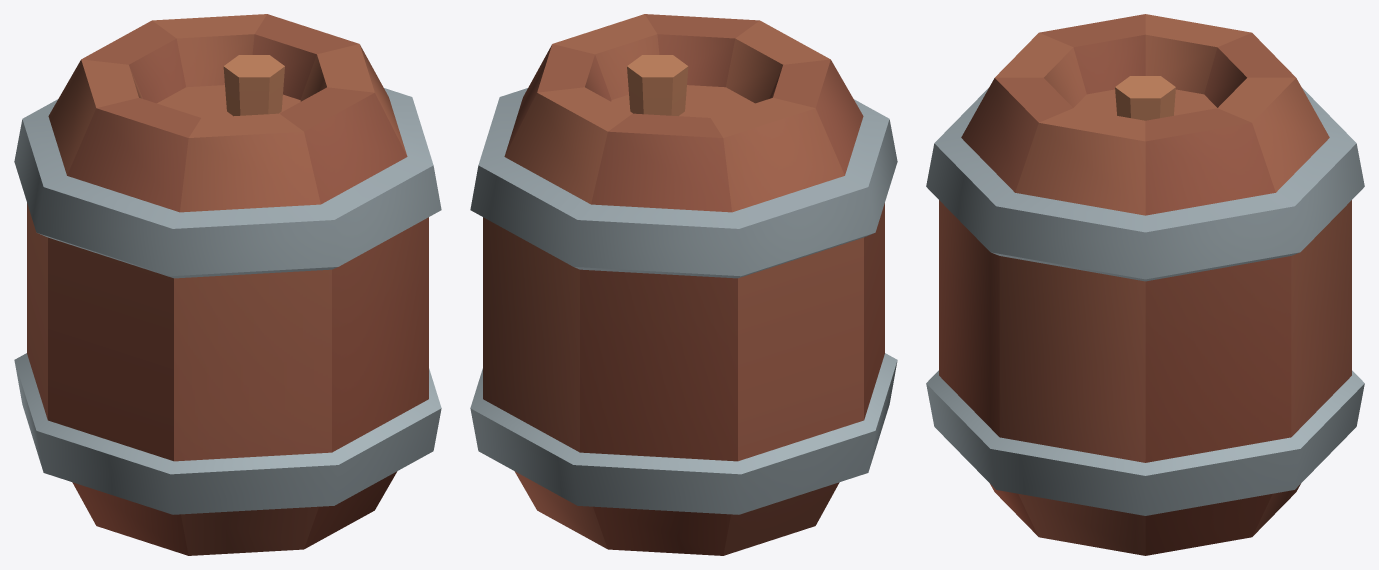
File: village.glb
3 renders of one model, left to right at view 1: azimuth 30°, elevation 25°; view 2: azimuth 150°, elevation 25°; view 3: azimuth 270°, elevation 25°, orthographic.
Parts seen in each view (by area): view 1: barrel; view 2: barrel; view 3: barrel.
Part boxes in pixels (left/top/right/bottom): barrel: left=14, top=14, right=441, bottom=555; barrel: left=470, top=14, right=897, bottom=555; barrel: left=926, top=14, right=1364, bottom=555.
Size of the model in its own units: 0.2015 by 0.2117 by 0.2015.
1 material, 1 textured.
